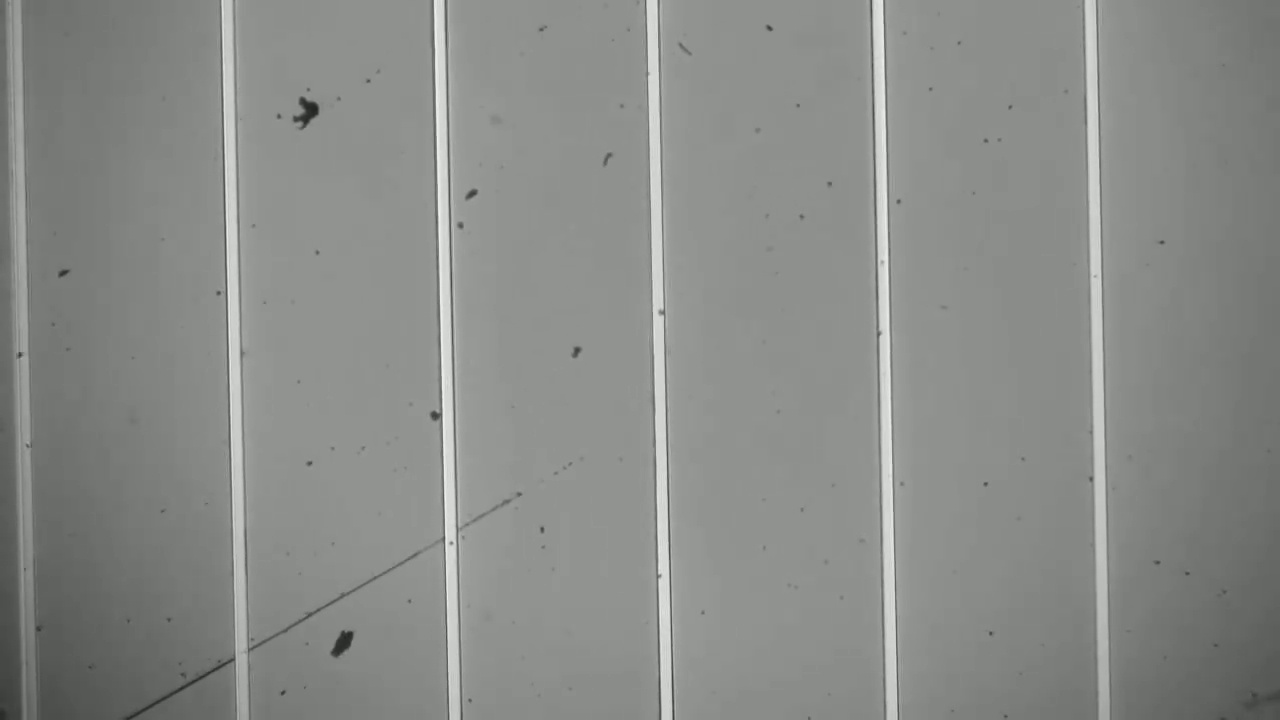scratch: (117, 460, 584, 718)
